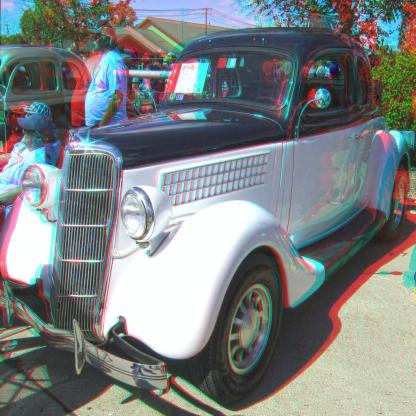Car: (1, 25, 416, 414), (1, 42, 94, 141)
